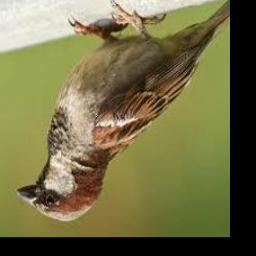Sparrow: (16, 0, 230, 223)
